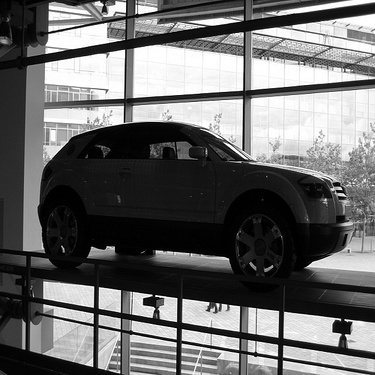car: (30, 119, 360, 293)
